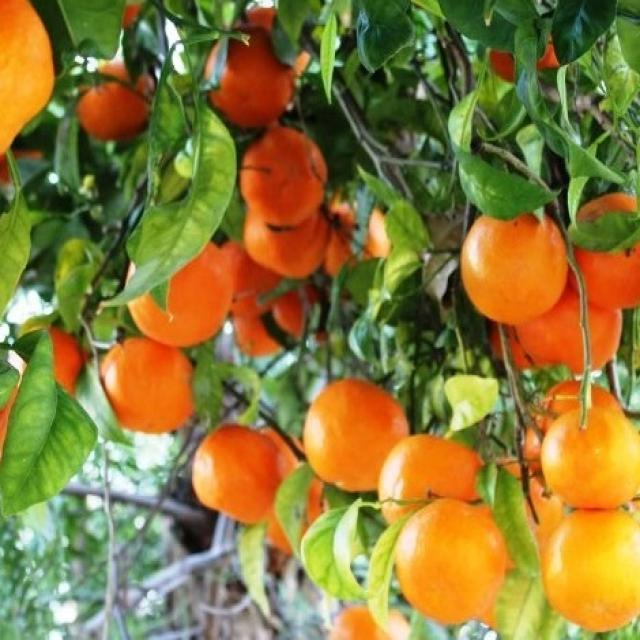Orange: (294, 359, 417, 504), (391, 483, 514, 628), (112, 221, 238, 355), (458, 192, 574, 333), (523, 493, 639, 634), (534, 386, 638, 512), (86, 328, 207, 436), (373, 418, 490, 527), (558, 168, 639, 320), (198, 18, 304, 132), (510, 269, 622, 376), (230, 122, 330, 235), (66, 42, 165, 152), (308, 184, 403, 287), (192, 423, 282, 530), (2, 314, 88, 416), (211, 232, 285, 316), (324, 584, 417, 638), (224, 300, 284, 364), (264, 277, 324, 338)
